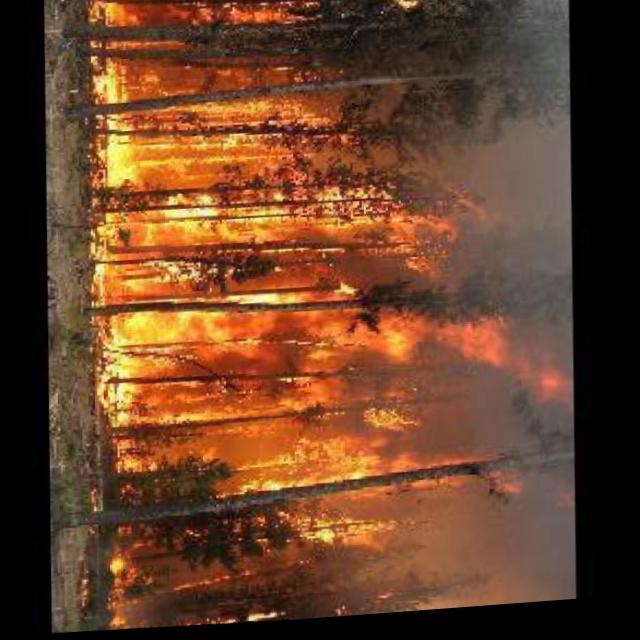Fire: (82, 0, 566, 635)
